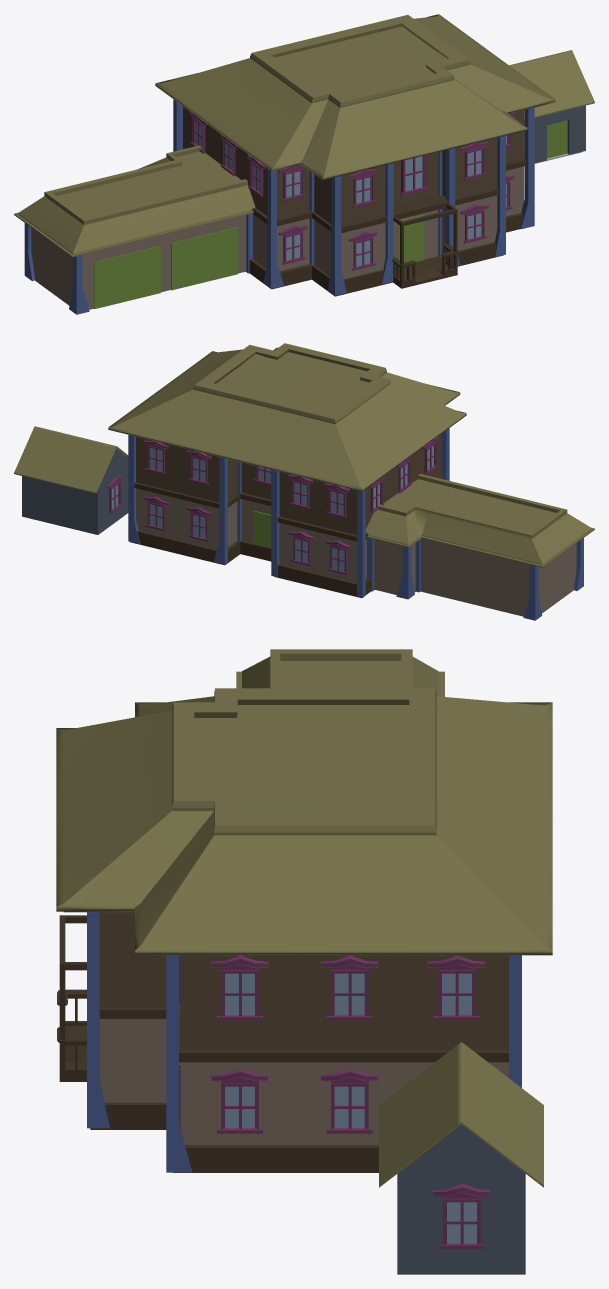
File: Mansion_WhiteBox.fbx
3 renders of one model, top to bottom at view 1: azimuth 30°, elevation 25°; view 2: azimuth 150°, elevation 25°; view 3: azimuth 270°, elevation 25°, orthographic. The views are drawn at different scales.
Visible parts, largest first — view 1: MansionRoof, GarageRoof, Floor_1, CornerFrame1, Floor_2, Shell_Base, Mansion_Door1, Mansion_Door2, Shed_Roof, Floor_Separator, Shed, Mansion_Door (+10 smaller); view 2: MansionRoof, Floor_1, GarageRoof, Floor_2, CornerFrame1, Shed, Shed_Roof, Shell_Base, Floor_Separator, Mansion_BackDoor, WindowFrame18, WindowFrame19 (+6 smaller); view 3: MansionRoof, Floor_2, Floor_1, Shed, Shed_Roof, Shell_Base, CornerFrame1, GarageRoof, WindowPane (×6), Floor_Separator, Shed_WindowFrame1, WindowFrame11 (+4 smaller).
Boxes of the visible parts, x1,y1,x2,y2 form: MansionRoof: [155, 14, 555, 180]; GarageRoof: [14, 145, 255, 257]; Floor_1: [31, 166, 524, 309]; CornerFrame1: [24, 99, 534, 314]; Floor_2: [183, 106, 524, 226]; Shell_Base: [249, 203, 523, 296]; Mansion_Door1: [171, 227, 238, 290]; Mansion_Door2: [94, 246, 160, 309]; Shed_Roof: [509, 50, 594, 119]; Floor_Separator: [252, 156, 526, 233]; Shed: [524, 105, 585, 163]; Mansion_Door: [398, 214, 424, 262]; MansionRoof: [108, 343, 466, 491]; Floor_1: [136, 488, 576, 616]; GarageRoof: [365, 474, 594, 567]; Floor_2: [136, 434, 441, 534]; CornerFrame1: [128, 428, 583, 620]; Shed: [22, 449, 128, 534]; Shed_Roof: [14, 426, 128, 493]; Shell_Base: [130, 530, 370, 598]; Floor_Separator: [134, 477, 444, 541]; Mansion_BackDoor: [253, 510, 271, 547]; WindowFrame18: [325, 540, 351, 575]; WindowFrame19: [324, 483, 350, 518]; MansionRoof: [56, 688, 552, 955]; Floor_2: [99, 912, 508, 1049]; Floor_1: [99, 1019, 508, 1144]; Shed: [397, 1124, 525, 1274]; Shed_Roof: [379, 1042, 543, 1187]; Shell_Base: [57, 915, 378, 1172]; CornerFrame1: [87, 912, 521, 1172]; GarageRoof: [236, 649, 444, 696]; WindowPane (×6): [225, 973, 476, 1243]; Floor_Separator: [99, 1007, 508, 1062]; Shed_WindowFrame1: [432, 1183, 490, 1249]; WindowFrame11: [320, 1068, 378, 1133].
Size of the model in its own units: 467 by 135 by 199.
